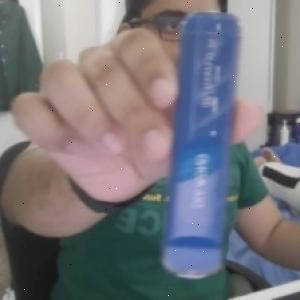Diamond-E-Ciggirate: (159, 10, 240, 280)
